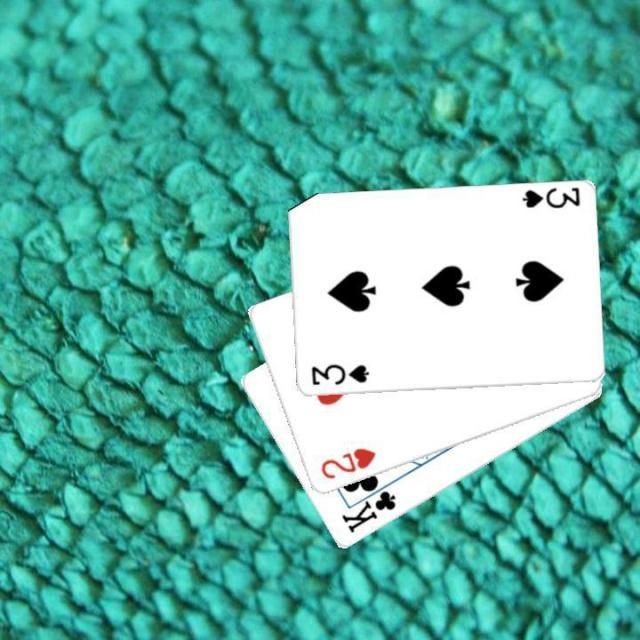2H: (316, 444, 378, 482)
3S: (307, 361, 371, 387), (519, 184, 582, 210)
KC: (337, 477, 397, 535)
